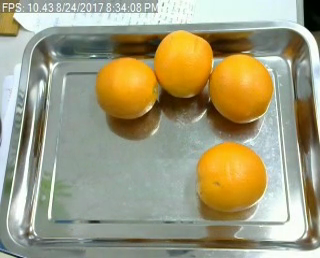Orange: (194, 141, 267, 212), (209, 52, 275, 122), (154, 29, 213, 99), (96, 55, 159, 119)
